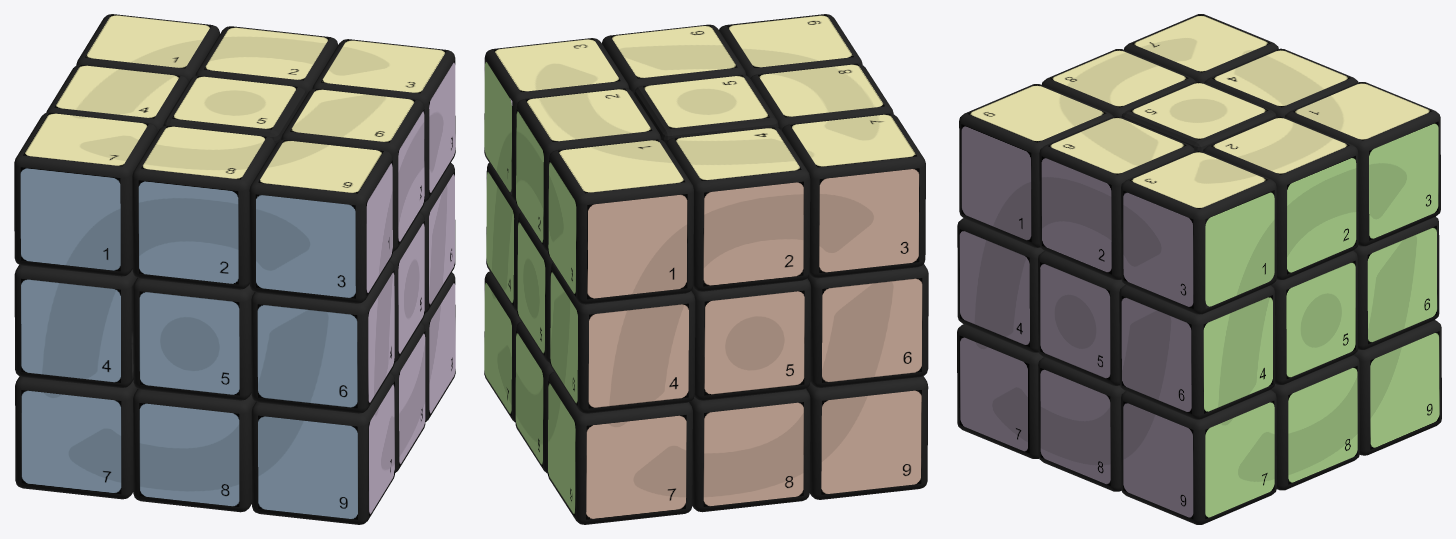
The model's file is Rubix_cube_animation_test_2.glb.
3 views of the same model, side by side, from view 1: azimuth 30°, elevation 25°; view 2: azimuth 150°, elevation 25°; view 3: azimuth 270°, elevation 25° (orthographic). The views are drawn at different scales.
Parts seen in each view (by area): view 1: s1_block_7, s1_block_8, s1_block_5, s1_block_6, s1_block_1, s1_block_2, s1_block_3, s1_block_9, s1_block_4, top_block_7, top_block_9, top_block_8 (+34 smaller); view 2: s2_block_1, s2_block_5, s2_block_3, s2_block_7, s2_block_9, s2_block_2, s2_block_6, s2_block_4, s2_block_8, top_block_1, stop_block_1, top_block_4 (+34 smaller); view 3: s4_block_1, s4_block_8, s4_block_7, s4_block_9, s4_block_5, s4_block_3, s4_block_6, s4_block_2, s4_block_4, s3_block_3, s3_block_8, s3_block_7 (+34 smaller).
Boxes of the visible parts, left/top/right/bottom form: s1_block_7: left=21, top=390, right=121, bottom=494; s1_block_8: left=139, top=403, right=239, bottom=506; s1_block_5: left=139, top=291, right=239, bottom=395; s1_block_6: left=257, top=304, right=357, bottom=408; s1_block_1: left=20, top=167, right=120, bottom=271; s1_block_2: left=138, top=180, right=238, bottom=284; s1_block_3: left=255, top=194, right=355, bottom=298; s1_block_9: left=258, top=415, right=357, bottom=519; s1_block_4: left=21, top=278, right=120, bottom=382; top_block_7: left=14, top=112, right=157, bottom=276; top_block_9: left=249, top=139, right=392, bottom=303; top_block_8: left=132, top=125, right=275, bottom=289; s2_block_1: left=587, top=194, right=687, bottom=299; s2_block_5: left=704, top=290, right=804, bottom=395; s2_block_3: left=819, top=168, right=919, bottom=272; s2_block_7: left=586, top=415, right=686, bottom=519; s2_block_9: left=821, top=390, right=921, bottom=494; s2_block_2: left=703, top=181, right=803, bottom=286; s2_block_6: left=822, top=278, right=922, bottom=382; s2_block_4: left=588, top=303, right=688, bottom=408; s2_block_8: left=703, top=402, right=803, bottom=506; top_block_1: left=548, top=139, right=693, bottom=304; stop_block_1: left=558, top=139, right=684, bottom=193; top_block_4: left=666, top=126, right=810, bottom=291; s4_block_1: left=961, top=124, right=1031, bottom=241; s4_block_8: left=1040, top=368, right=1110, bottom=485; s4_block_7: left=959, top=335, right=1029, bottom=453; s4_block_9: left=1123, top=401, right=1193, bottom=518; s4_block_5: left=1040, top=262, right=1110, bottom=379; s4_block_3: left=1123, top=191, right=1193, bottom=308; s4_block_6: left=1121, top=296, right=1191, bottom=413; s4_block_2: left=1041, top=156, right=1111, bottom=274; s4_block_4: left=959, top=229, right=1029, bottom=346; s3_block_3: left=1369, top=121, right=1438, bottom=240; s3_block_8: left=1288, top=366, right=1357, bottom=484; s3_block_7: left=1205, top=401, right=1274, bottom=519.
Bounding box in the file's own units: 8.39 × 6.09 × 8.4.
9 materials, 8 textured.
